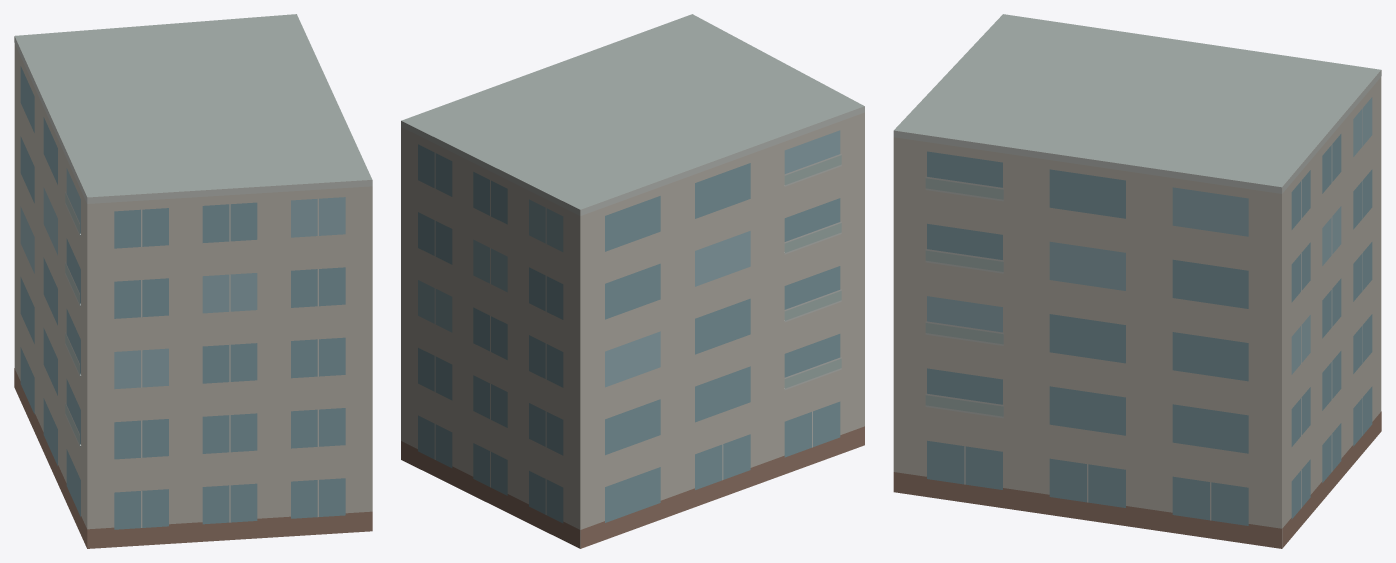
File: survey-upis-32952570.glb
3 renders of one model, left to right at view 1: azimuth 30°, elevation 25°; view 2: azimuth 150°, elevation 25°; view 3: azimuth 270°, elevation 25°, orthographic. The views are drawn at different scales.
Visible parts, largest first — view 1: survey-upis-32952570.tmp; view 2: survey-upis-32952570.tmp; view 3: survey-upis-32952570.tmp.
Boxes of the visible parts, x1,y1,x2,y2 form: survey-upis-32952570.tmp: (14,14,372,548); survey-upis-32952570.tmp: (401,14,864,548); survey-upis-32952570.tmp: (893,14,1381,548).
Size of the model in its own units: 13.58 by 13.2 by 16.15.
